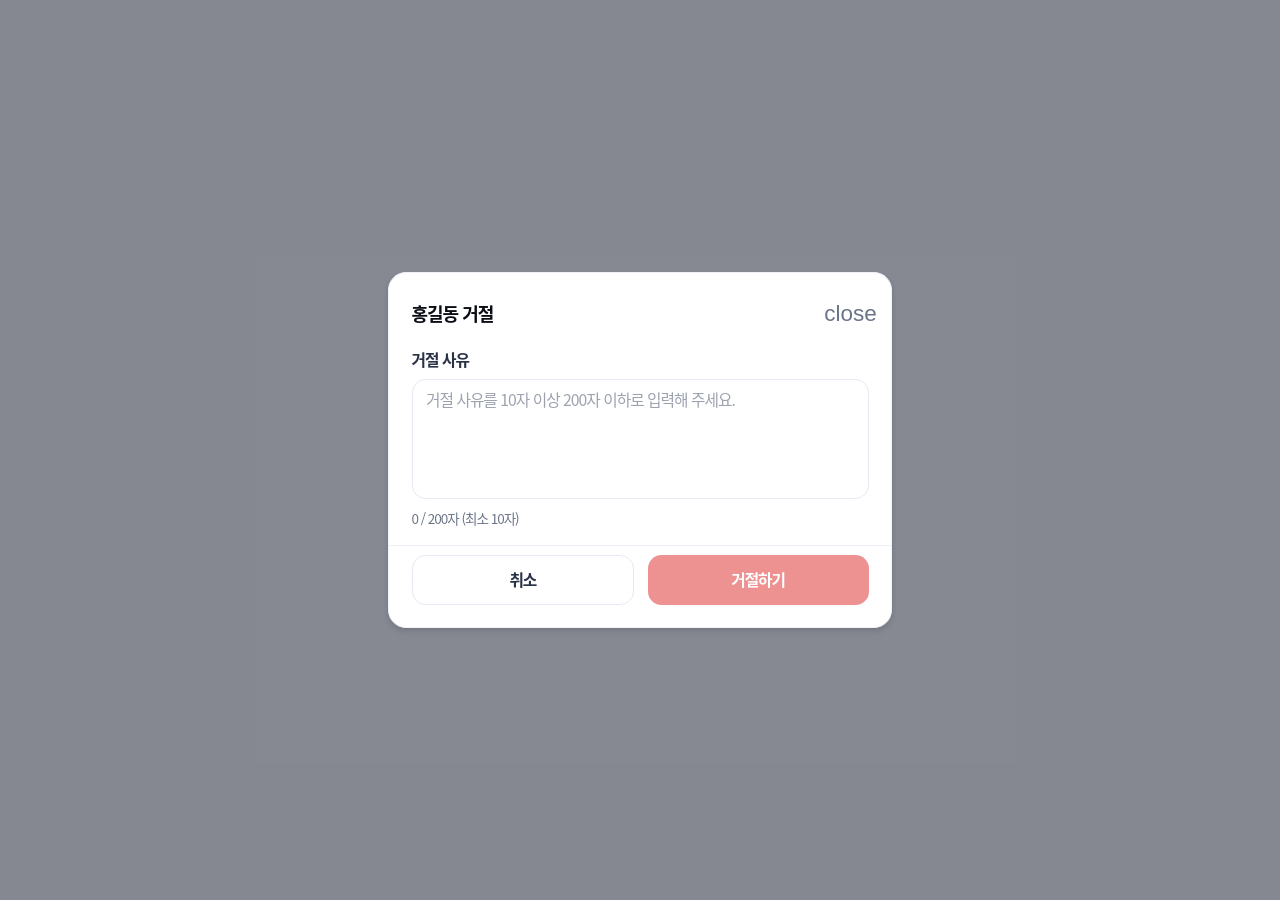
Scenario: MatchRejectDialog › 사유 검증 › 50자(유효 범위) 입력 시 거절 버튼이 활성화된다
Step 1. Type "신청자 수준이 경기 레벨에 맞지 않아 거절합니다." into the text box with placeholder "거절 사유를 10자 이상 200자 이하로 입력해 주세요." → (640, 439), box [412, 379, 868, 499]
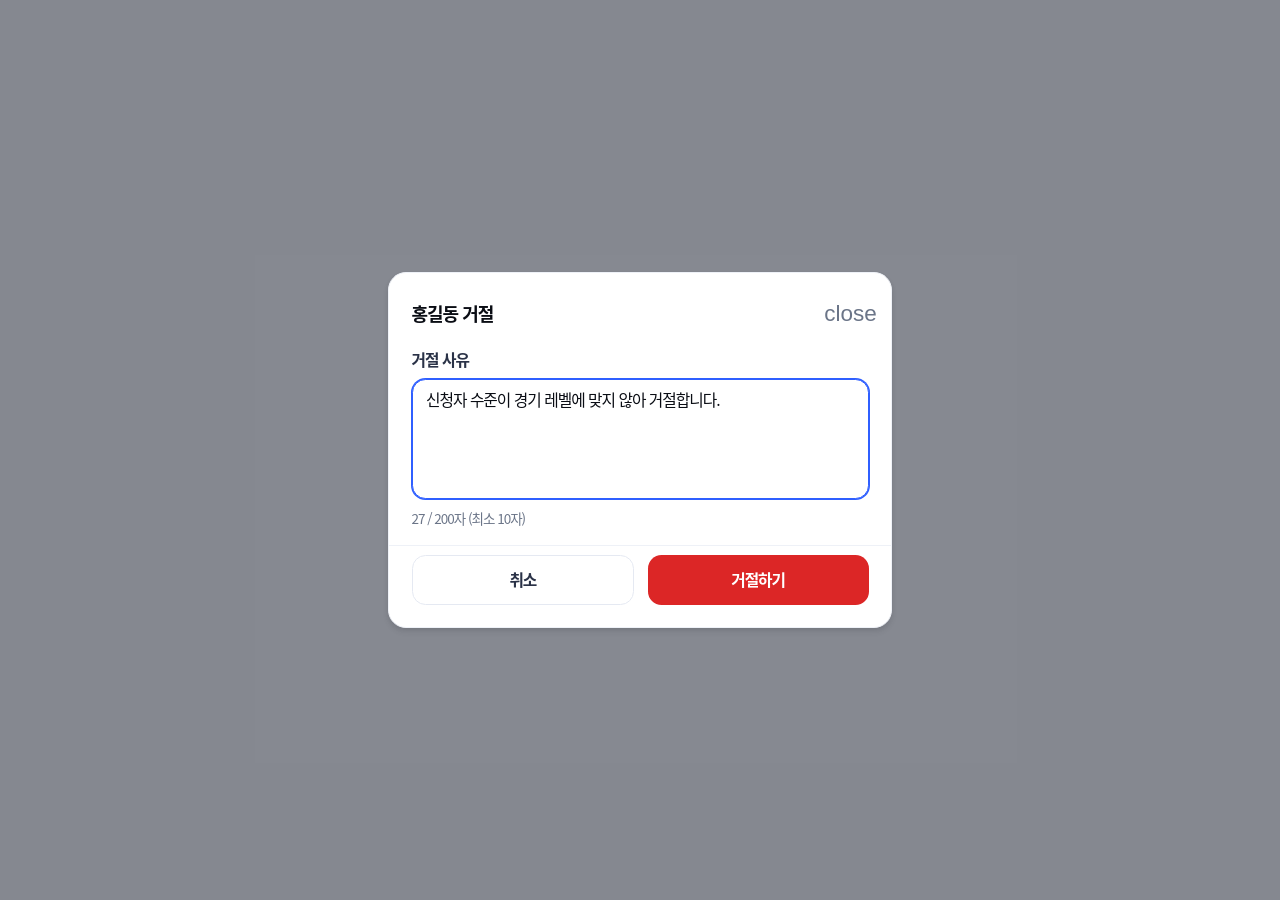
Check: the button "거절하기" is enabled, box [648, 555, 869, 605]
